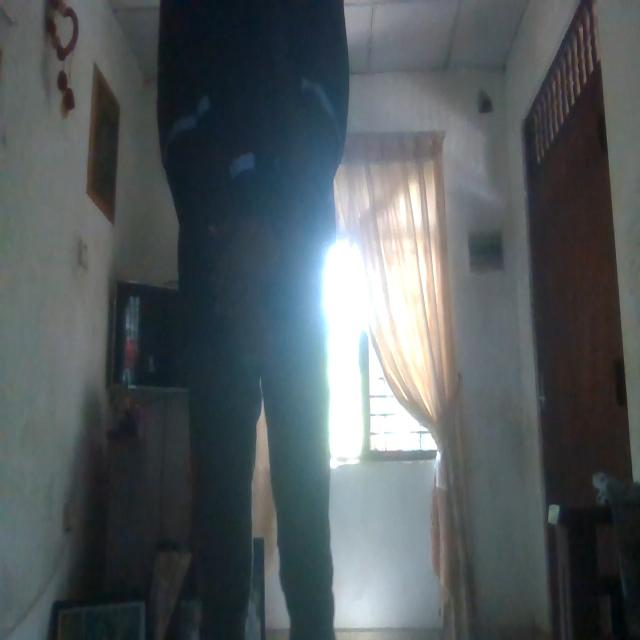Jacket_Wearer: (158, 0, 345, 317)
Person: (161, 0, 349, 636)
